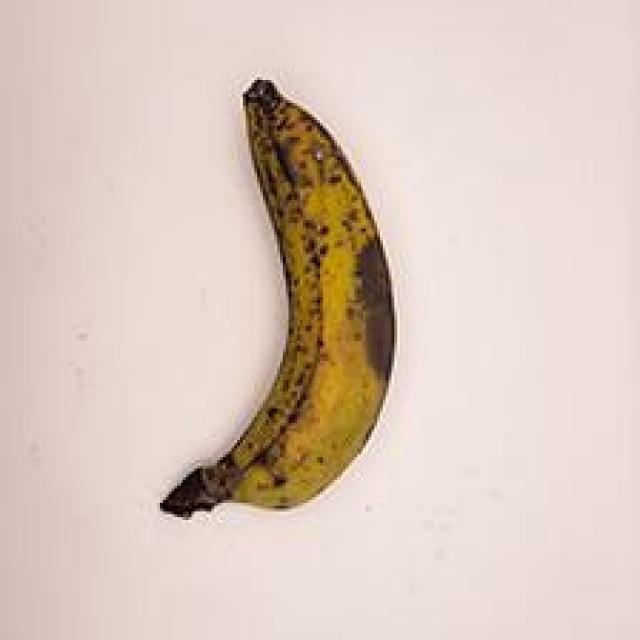Overripe: (143, 47, 420, 559)
